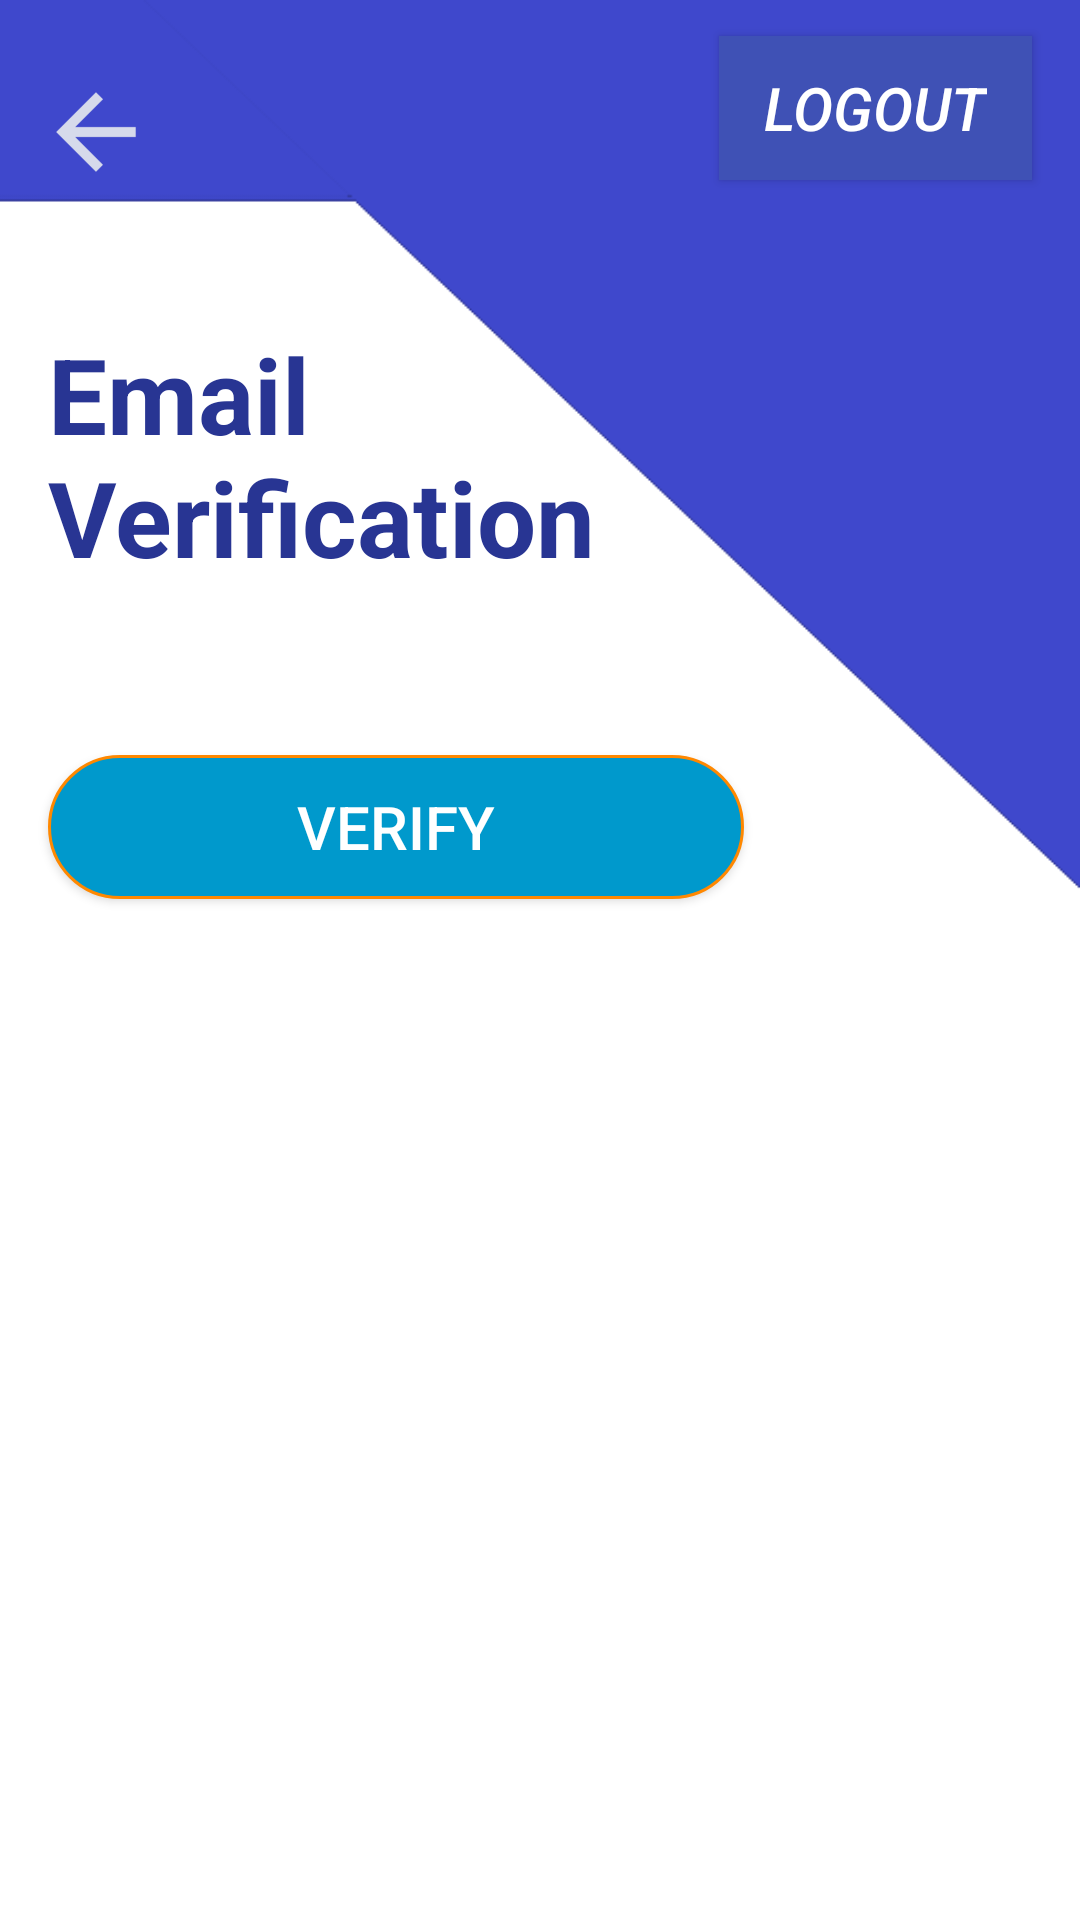

Screen size 1080×1920. Icon name, then its center in pixels as [x,y]:
back arrow: [96,132]
